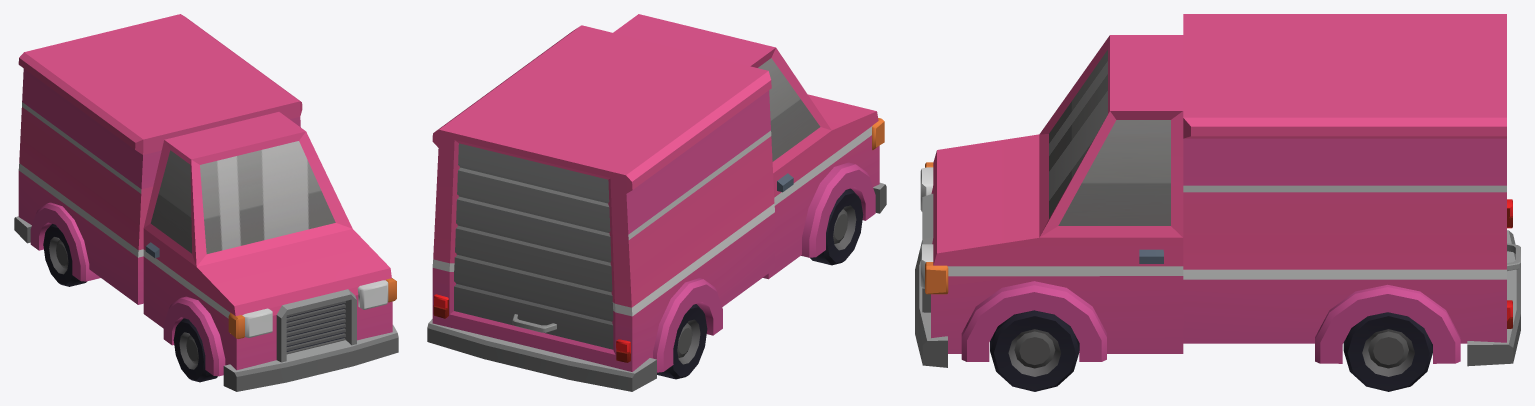
Rendered from PostCar_15.fbx.
3 views of the same model, side by side, from view 1: azimuth 30°, elevation 25°; view 2: azimuth 150°, elevation 25°; view 3: azimuth 270°, elevation 25° (orthographic). The views are drawn at different scales.
Visible parts, largest first — view 1: PostCar_15, Wheel_FR, Wheel_BR; view 2: PostCar_15, Wheel_FR, Wheel_BR; view 3: PostCar_15, Wheel_FL, Wheel_BL.
Boxes of the visible parts, left/top/right/bottom form: PostCar_15: left=14, top=14, right=398, bottom=391; Wheel_FR: left=173, top=318, right=217, bottom=382; Wheel_BR: left=43, top=224, right=86, bottom=286; PostCar_15: left=427, top=14, right=886, bottom=391; Wheel_FR: left=810, top=188, right=863, bottom=265; Wheel_BR: left=657, top=304, right=707, bottom=379; PostCar_15: left=915, top=14, right=1520, bottom=367; Wheel_FL: left=990, top=310, right=1079, bottom=391; Wheel_BL: left=1343, top=312, right=1432, bottom=391.
Bounding box in the file's own units: 1.18 × 1.24 × 2.51.
